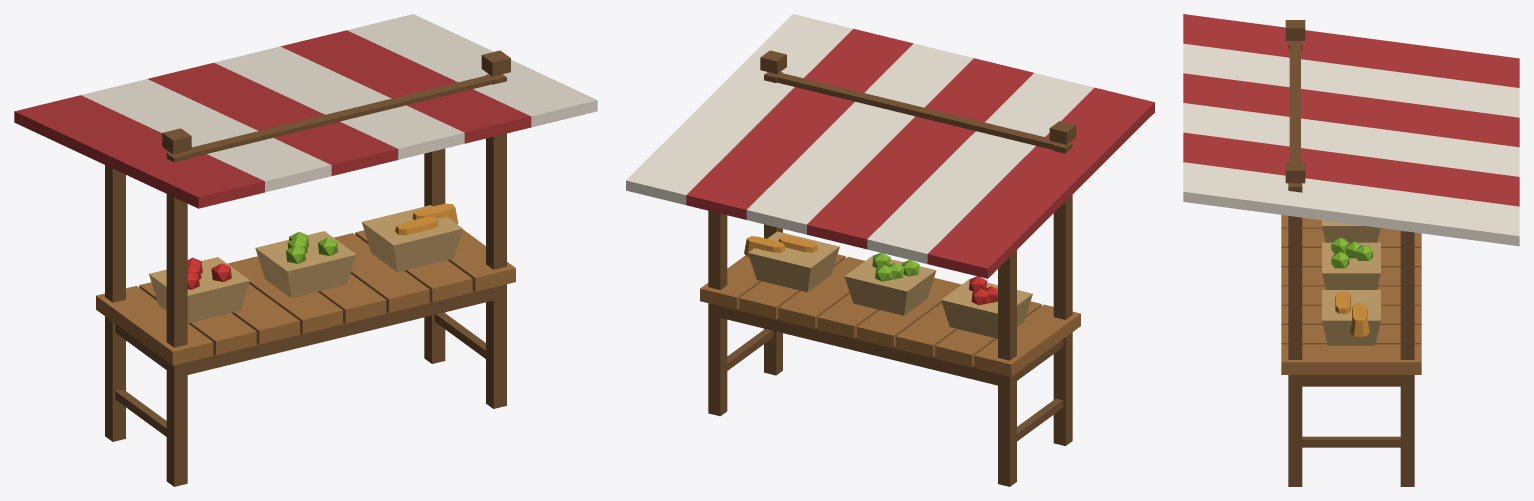
Rendered from marktstand.glb.
The picture shows the model from 3 angles, left to right: view 1: azimuth 30°, elevation 25°; view 2: azimuth 150°, elevation 25°; view 3: azimuth 270°, elevation 25°; orthographic projection. The views are drawn at different scales.
Visible parts, largest first — view 1: marktstand_holz_dunkel, marktstand_stoff, marktstand_streifen, marktstand_holz, marktstand_korb, marktstand_brot, marktstand_apfel_gruen, marktstand_apfel_rot; view 2: marktstand_stoff, marktstand_streifen, marktstand_holz_dunkel, marktstand_holz, marktstand_korb, marktstand_brot, marktstand_apfel_gruen, marktstand_apfel_rot; view 3: marktstand_streifen, marktstand_stoff, marktstand_holz_dunkel, marktstand_holz, marktstand_korb, marktstand_brot, marktstand_apfel_gruen.
Boxes of the visible parts, x1,y1,x2,y2 form: marktstand_holz_dunkel: (105,50,510,486); marktstand_stoff: (14,30,531,208); marktstand_streifen: (81,14,597,192); marktstand_holz: (96,229,515,365); marktstand_korb: (149,205,462,323); marktstand_brot: (395,203,458,235); marktstand_apfel_gruen: (286,231,338,263); marktstand_apfel_rot: (187,257,231,289); marktstand_stoff: (686,28,1154,278); marktstand_streifen: (626,14,1094,263); marktstand_holz_dunkel: (708,50,1076,486); marktstand_holz: (700,254,1080,376); marktstand_korb: (748,231,1032,338); marktstand_brot: (744,236,817,257); marktstand_apfel_gruen: (872,253,919,281); marktstand_apfel_rot: (969,276,997,305); marktstand_streifen: (1183,43,1519,246); marktstand_stoff: (1183,14,1519,206); marktstand_holz_dunkel: (1285,20,1414,486); marktstand_holz: (1281,215,1421,374); marktstand_korb: (1322,220,1380,345); marktstand_brot: (1335,291,1369,336); marktstand_apfel_gruen: (1331,237,1372,268).
Bounding box in the file's own units: 3 × 2.5 × 2.4.
